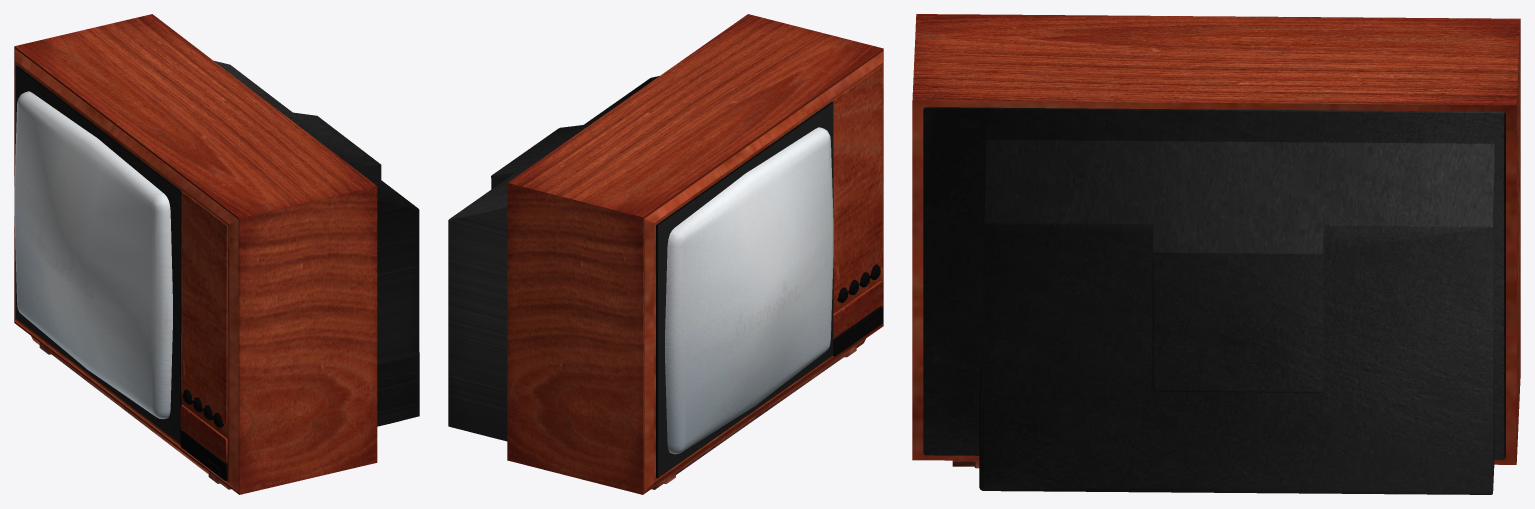
The picture shows the model from 3 angles, left to right: view 1: azimuth 30°, elevation 25°; view 2: azimuth 150°, elevation 25°; view 3: azimuth 270°, elevation 25°; orthographic projection. The views are drawn at different scales.
Parts seen in each view (by area): view 1: TV:television_rubin; view 2: TV:television_rubin; view 3: TV:television_rubin.
Boxes of the visible parts, x1,y1,x2,y2 form: TV:television_rubin: [14, 14, 419, 494]; TV:television_rubin: [448, 14, 883, 494]; TV:television_rubin: [912, 14, 1520, 494].
Size of the model in its own units: 6.04 by 6.06 by 9.05.
Materials: 6 (5 with a texture image).
